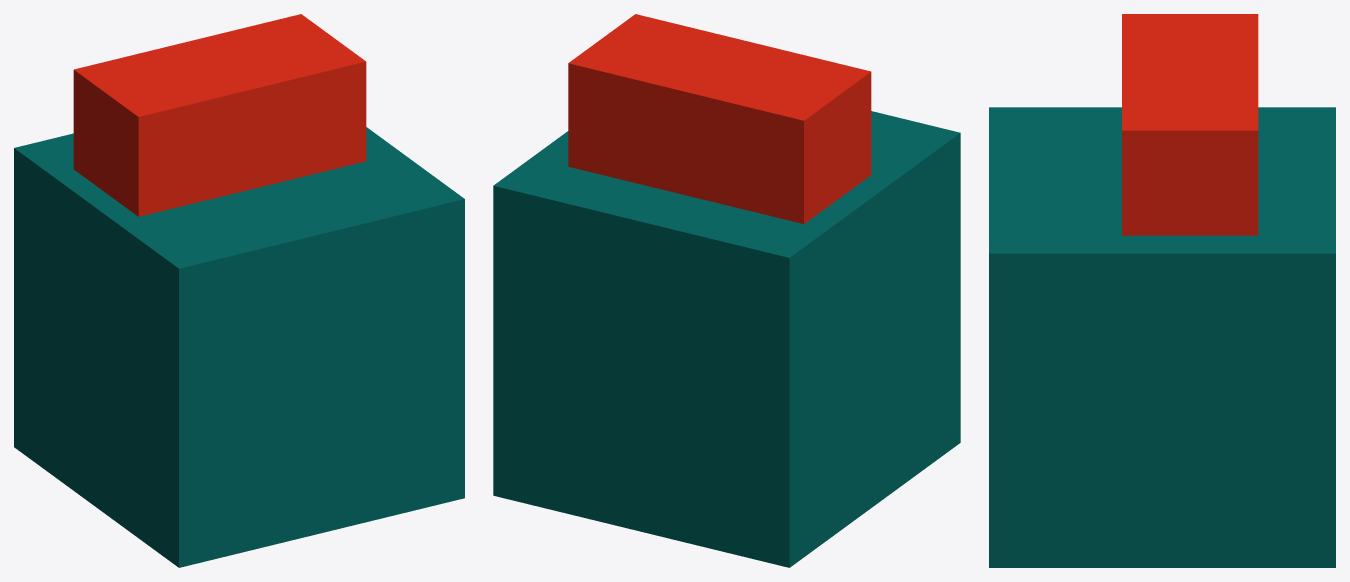
3 renders of one model, left to right at view 1: azimuth 30°, elevation 25°; view 2: azimuth 150°, elevation 25°; view 3: azimuth 270°, elevation 25°, orthographic. The views are drawn at different scales.
Parts seen in each view (by area): view 1: Cube; view 2: Cube; view 3: Cube.
Part boxes in pixels (<box>): Cube: <box>14,14,464,567</box>; Cube: <box>493,14,960,567</box>; Cube: <box>989,14,1335,567</box>.
Size of the model in its own units: 2 by 2.67 by 2.
